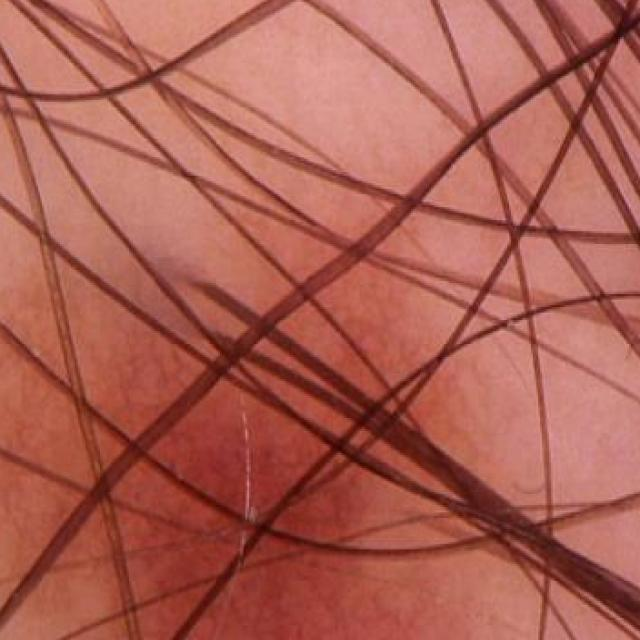NV: (0, 224, 415, 640)
